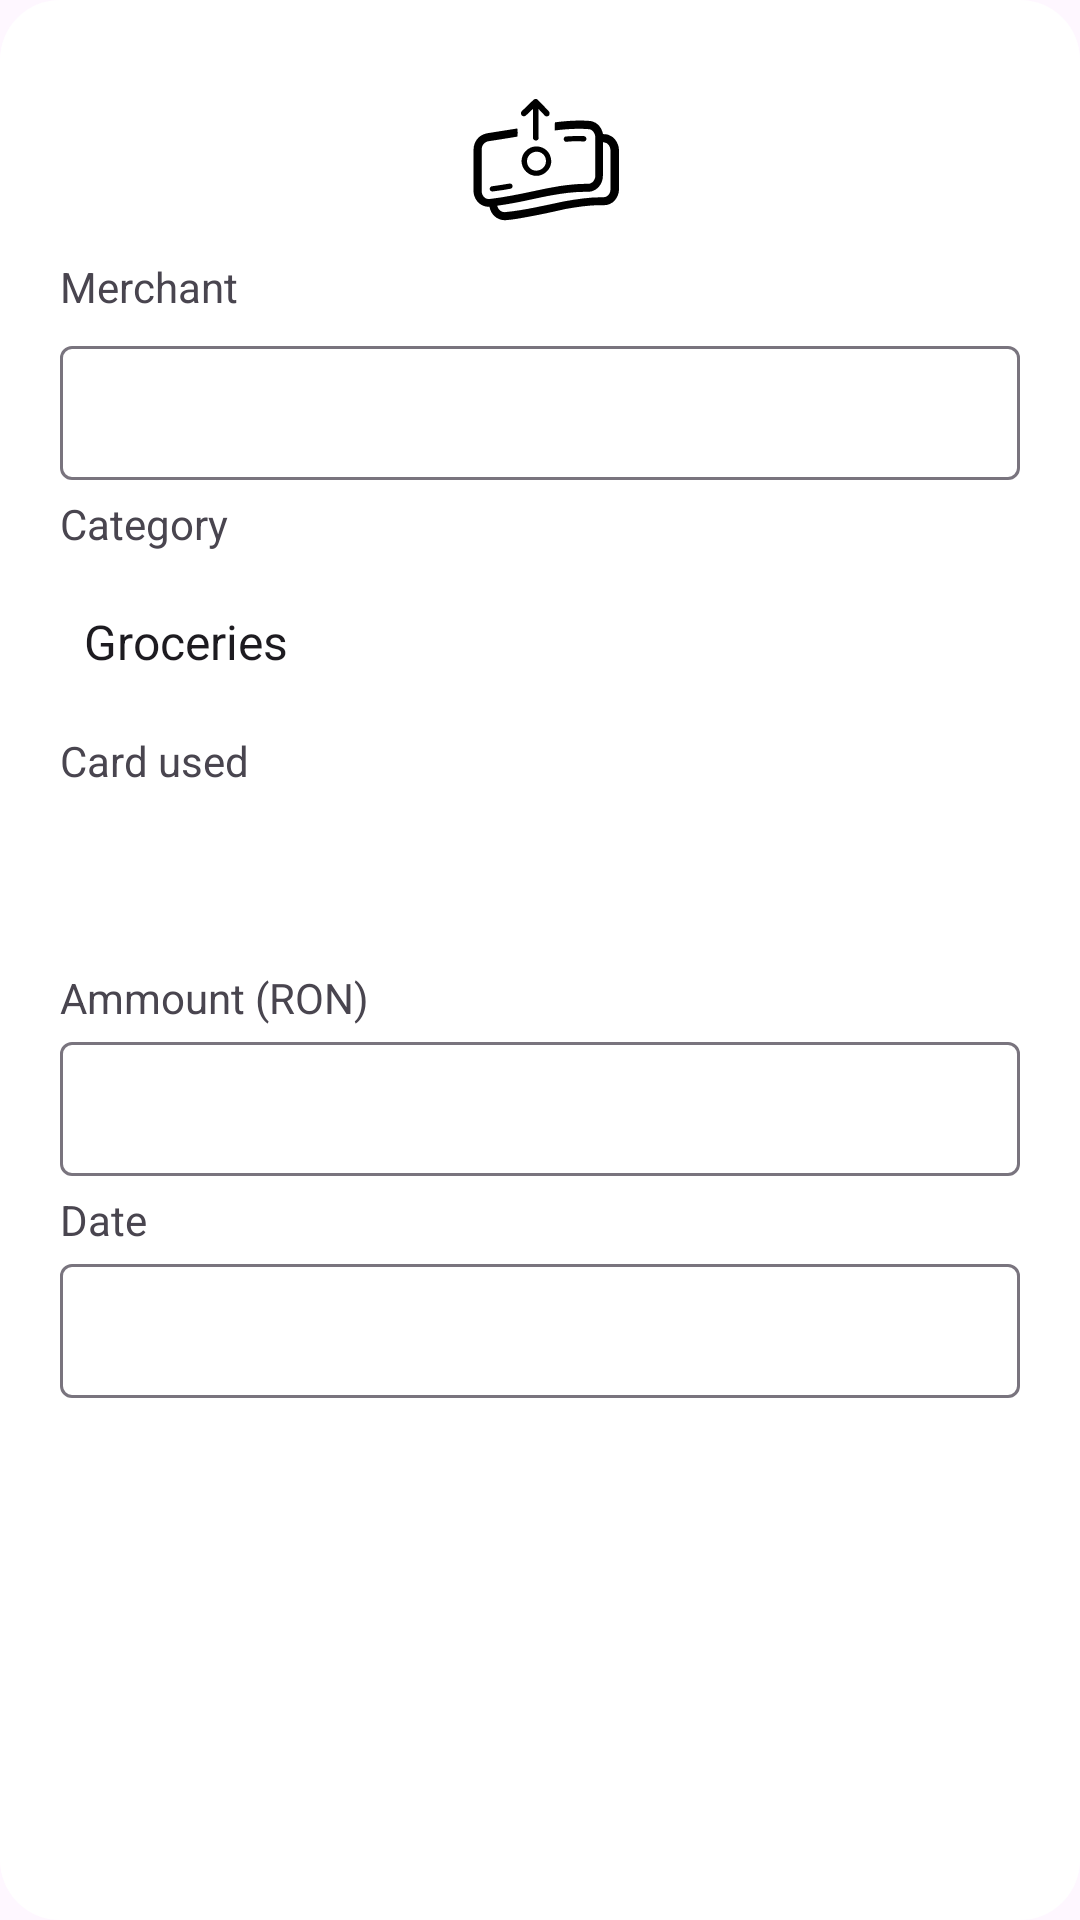

Where icons sit on this 1080 × 1920 app screen, as (left=x1, top=y1, right=x2, bottom=y2):
pay: (left=473, top=99, right=619, bottom=221)
